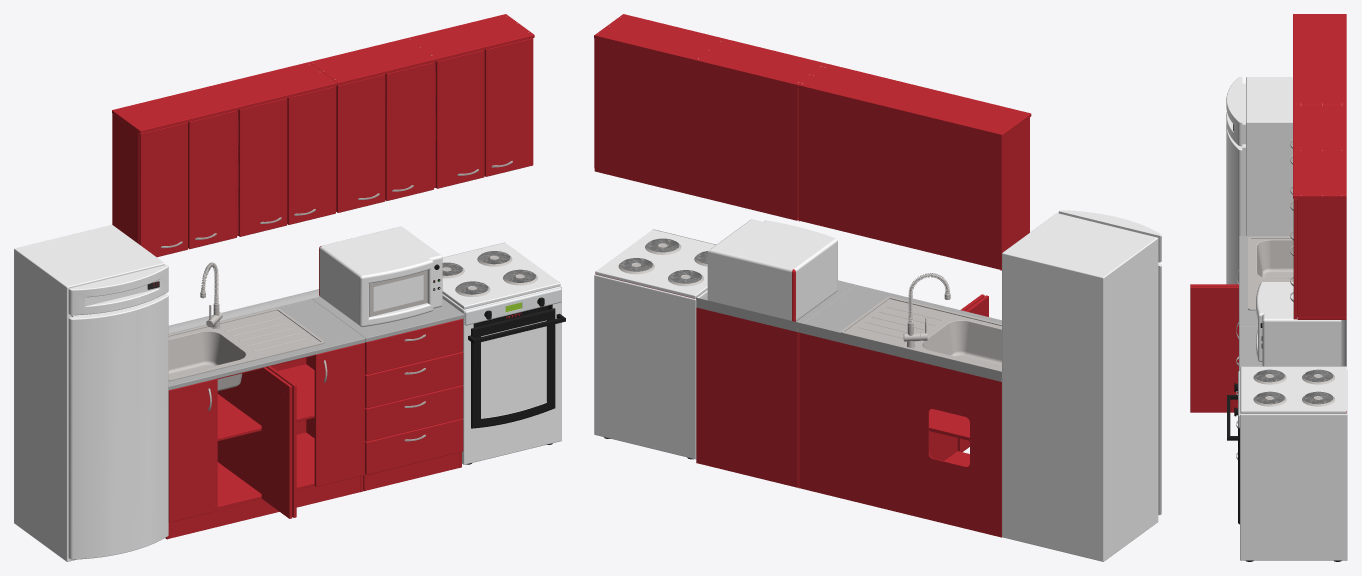
File: obj_kitchen_cb9adc.glb
3 views of the same model, side by side, from view 1: azimuth 30°, elevation 25°; view 2: azimuth 150°, elevation 25°; view 3: azimuth 270°, elevation 25° (orthographic). The views are drawn at different scales.
Visible parts, largest first — view 1: obj_kitchen_cb9adc; view 2: obj_kitchen_cb9adc; view 3: obj_kitchen_cb9adc.
Part boxes in pixels (left/top/right/bottom): obj_kitchen_cb9adc: left=14, top=14, right=565, bottom=561; obj_kitchen_cb9adc: left=594, top=14, right=1161, bottom=561; obj_kitchen_cb9adc: left=1190, top=14, right=1347, bottom=561.
Size of the model in its own units: 1.19 by 0.9 by 0.3481.
Materials: 12 (1 with a texture image).
